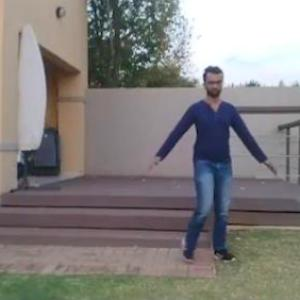land: (147, 78, 264, 270)
